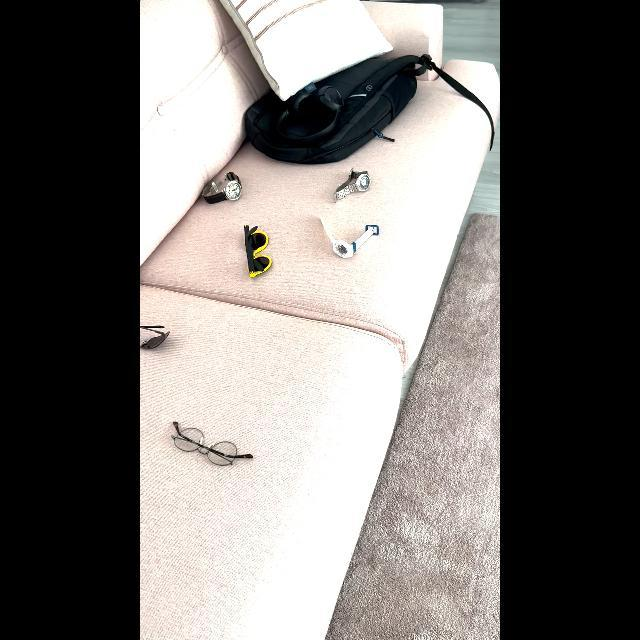eyewear: (163, 414, 259, 474), (238, 218, 276, 282)
